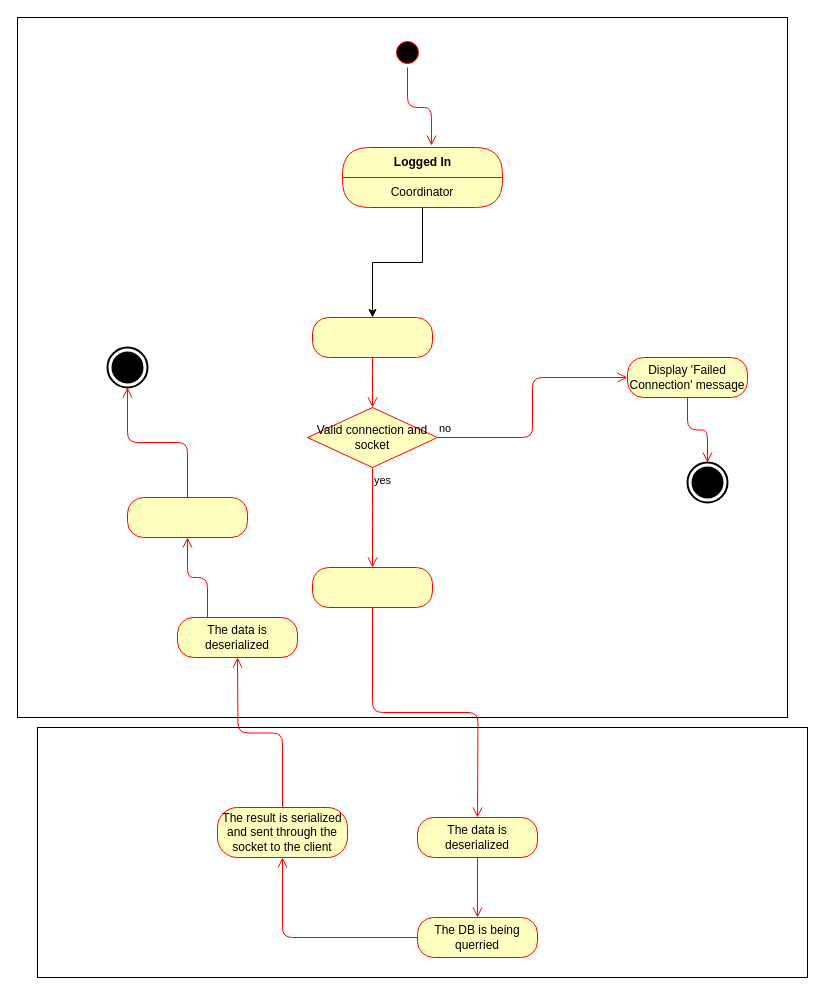
This 825x995 diagram has some shape labels left out. The shapes that lost their labels are listed below. From the top down, each one's centre as x and y in pixels, then its label:
pixel 372 337: View Postmen button clicked
pixel 187 517: The main table is updated
pixel 372 587: Send request through the socket
